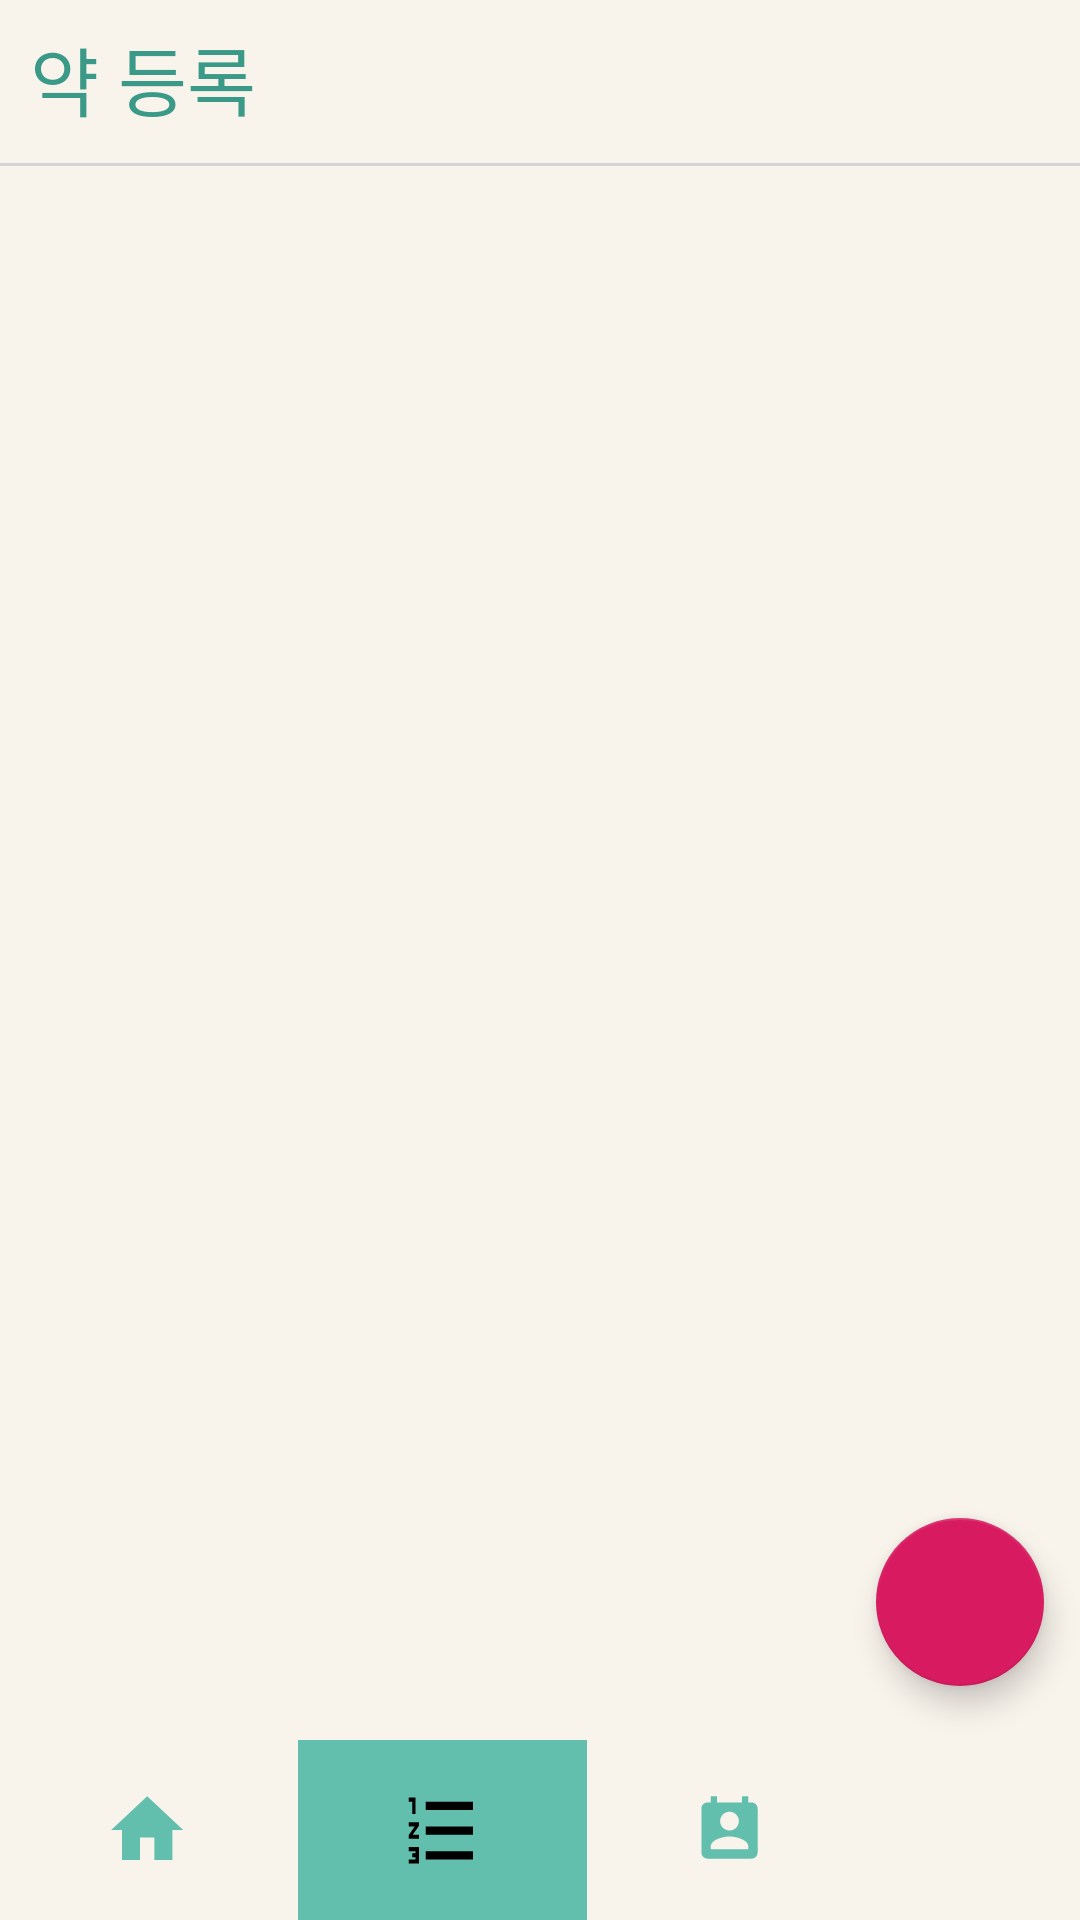

Screen size 1080x1920. Icon name, then its box in pixels as (x1, y1, x2, y2):
bottom menu calendar: (701, 1796, 758, 1859)
bottom menu detail: (298, 1740, 587, 1920)
bottom menu home: (111, 1796, 183, 1860)
